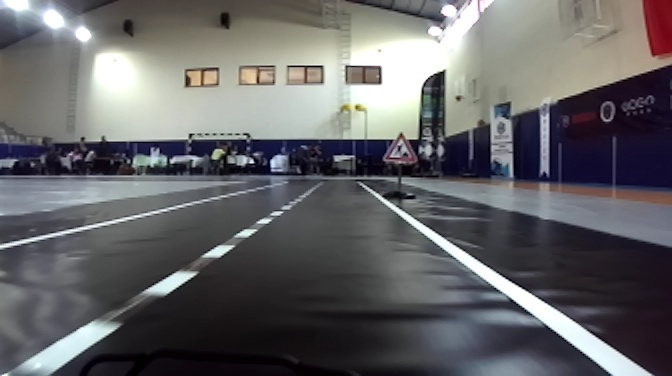yol_yapimi: (380, 133, 419, 163)
